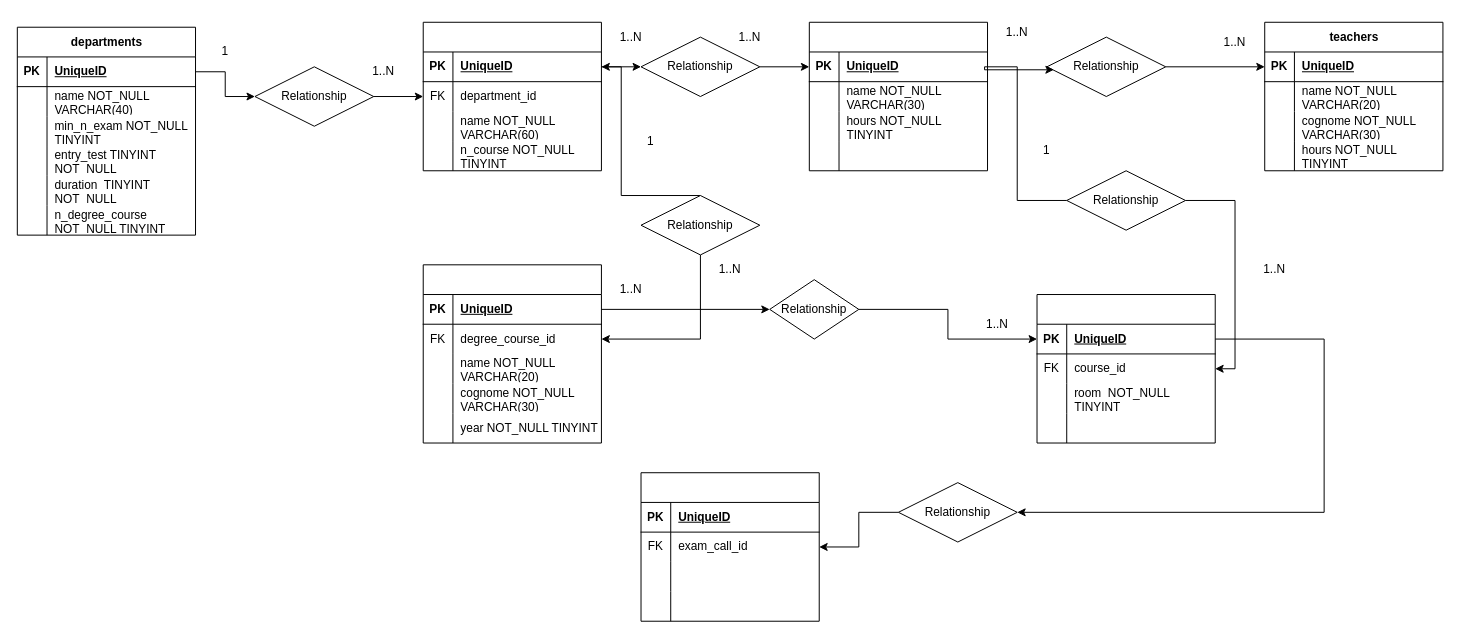
This 1460x639 diagram has some shape labels left out. Each missing label, with the box of its shape:
course: (808, 21, 988, 171)
degree course: (422, 21, 601, 171)
exam_calls: (1036, 294, 1215, 443)
students: (422, 264, 601, 443)
votes: (640, 472, 819, 621)
